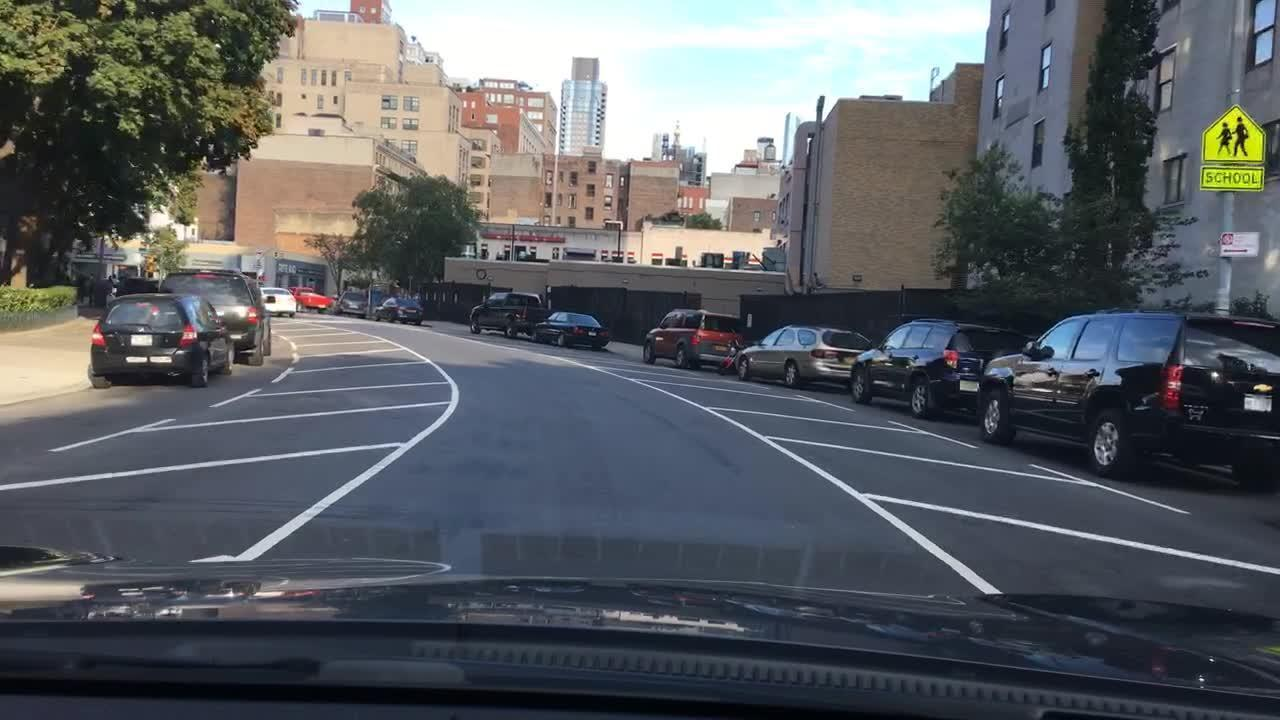chevrolet: (1243, 374, 1280, 403)
